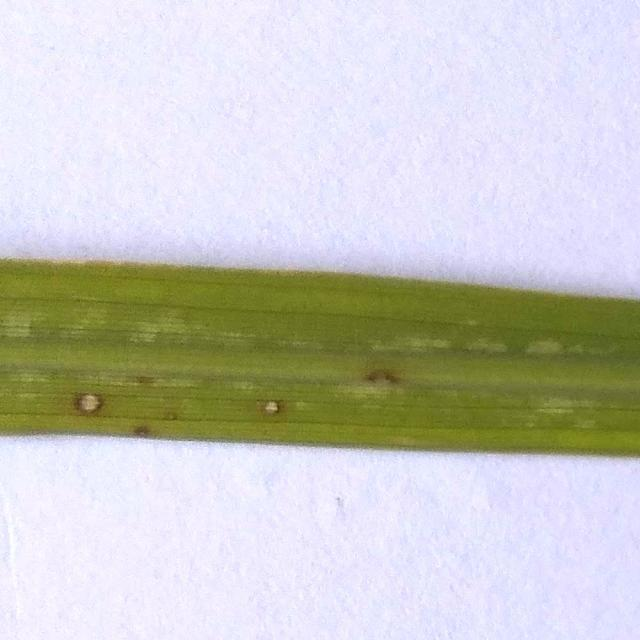Blast: (69, 388, 106, 414), (367, 364, 397, 386), (259, 396, 288, 414), (132, 424, 156, 439)
